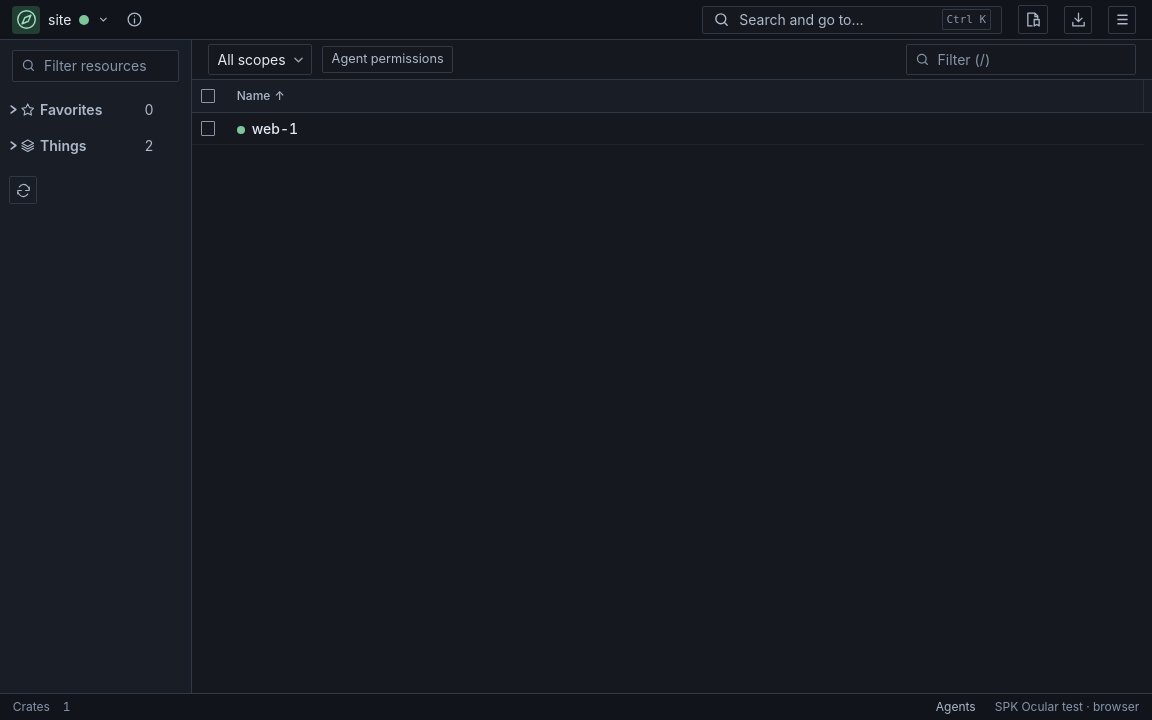
Test: a provider without Kubernetes knowledge › an object is shown by its title, opened by its key
Double-click the text "web-1" at (267, 128), box x1=237 y1=120 x2=298 y2=137
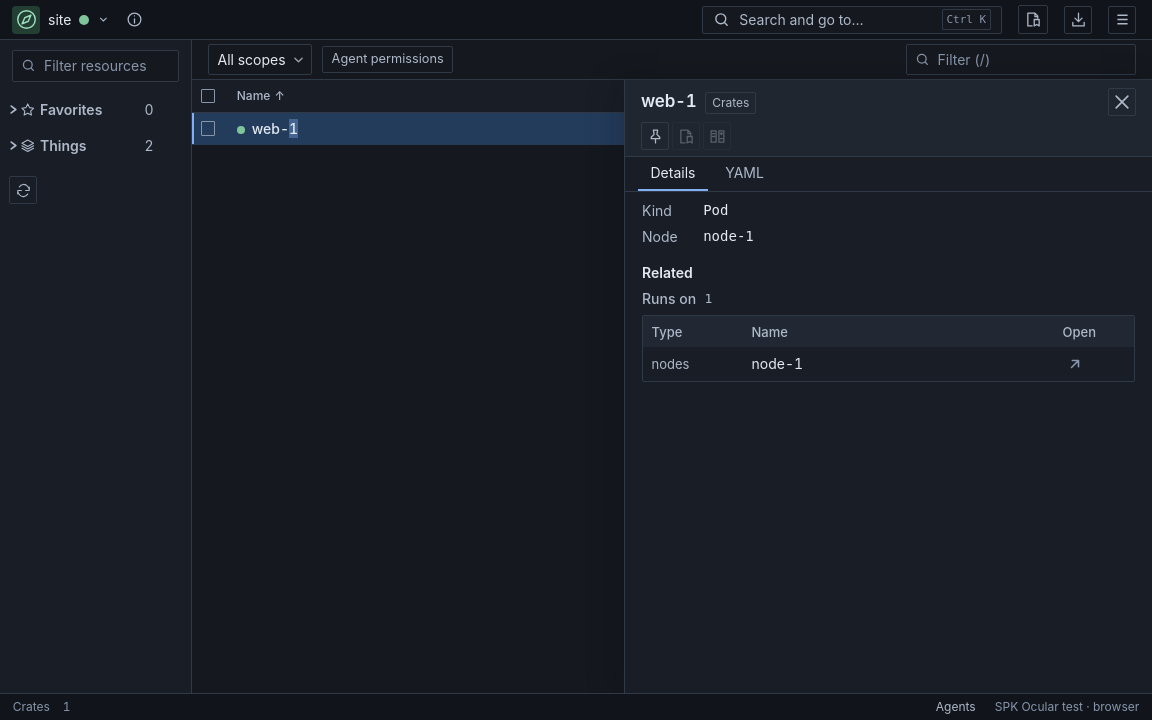
Expected: the heading "web-1" is shown, x1=641 y1=90 x2=697 y2=113
